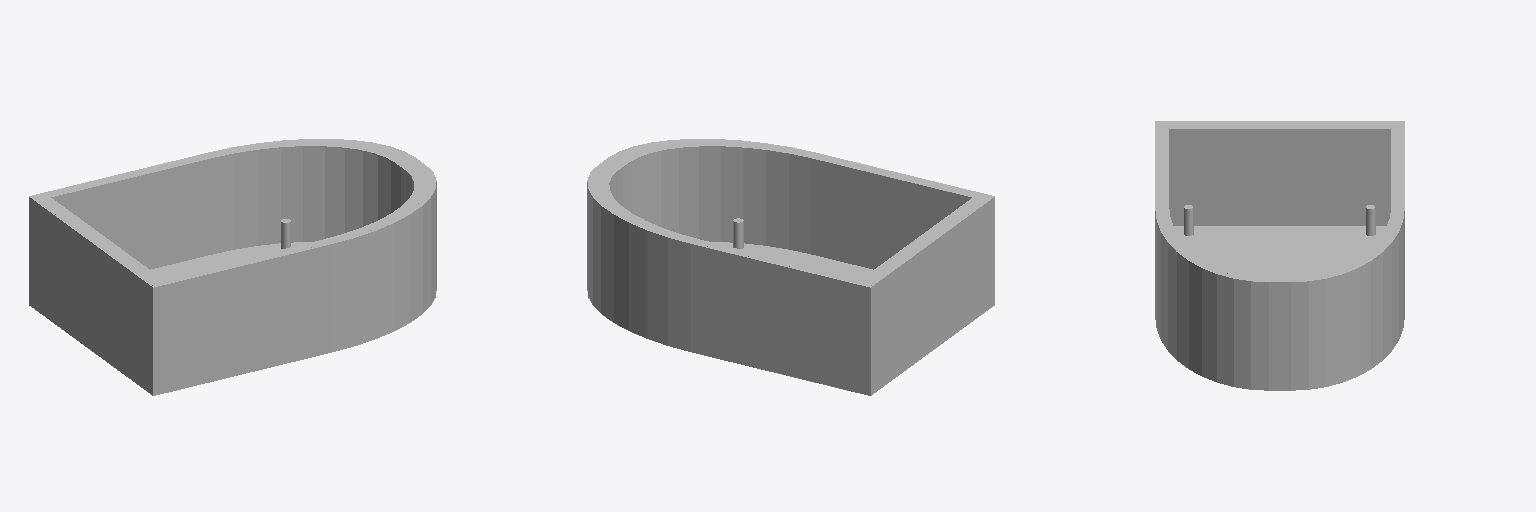
File: fingercase3.obj
The picture shows the model from 3 angles: view 1: azimuth 30°, elevation 25°; view 2: azimuth 150°, elevation 25°; view 3: azimuth 270°, elevation 25°; orthographic projection.
Visible parts, largest first — view 1: fingertip; view 2: fingertip; view 3: fingertip.
Boxes of the visible parts, box(x1,y1,x2,y2) form: fingertip: box(29, 139, 436, 395); fingertip: box(587, 139, 994, 395); fingertip: box(1155, 121, 1404, 390).
Bounding box in the file's own units: 1.26 × 0.3967 × 0.8271.